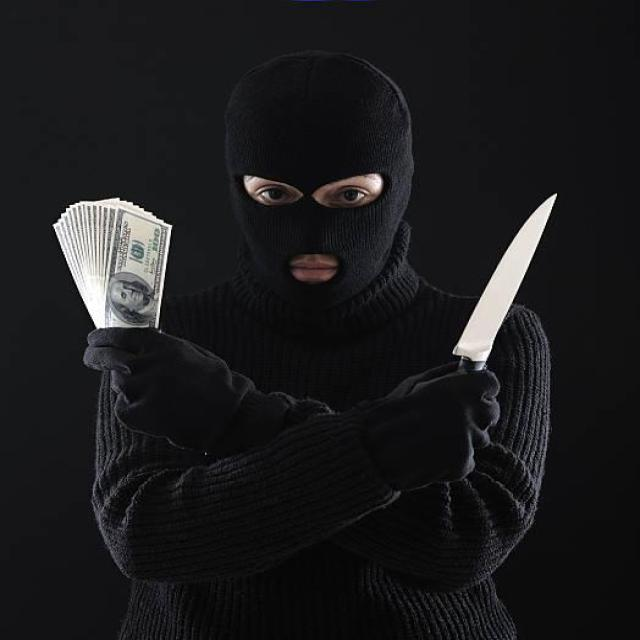faca: (397, 168, 573, 488)
